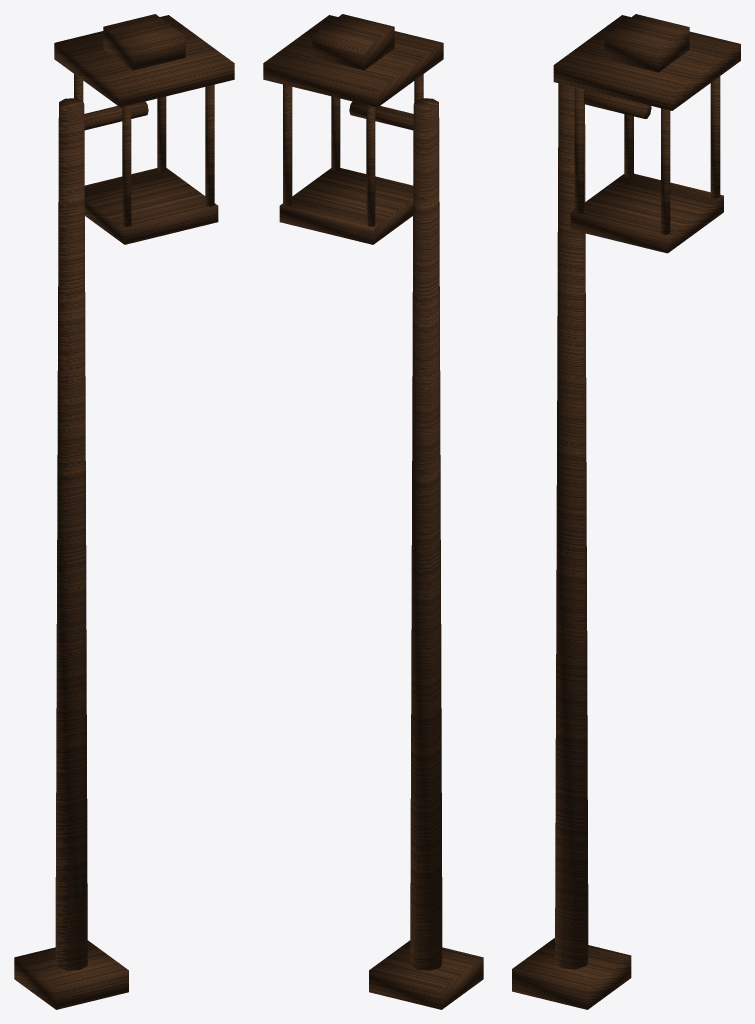
File: farol.obj
3 renders of one model, left to right at view 1: azimuth 30°, elevation 25°; view 2: azimuth 150°, elevation 25°; view 3: azimuth 330°, elevation 25°, orthographic. The views are drawn at different scales.
Visible parts, largest first — view 1: farol; view 2: farol; view 3: farol.
Part boxes in pixels (x1,y1,x2,y2): farol: (14,14,234,1009); farol: (263,14,483,1009); farol: (512,14,740,1009).
Size of the model in its own units: 0.32 by 1.72 by 0.22.
1 material, 1 textured.
